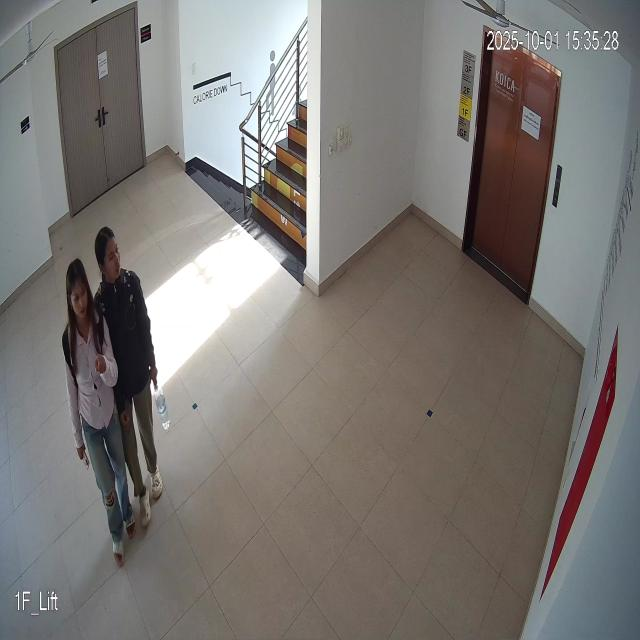face: (63, 253, 94, 324), (93, 223, 125, 288)
